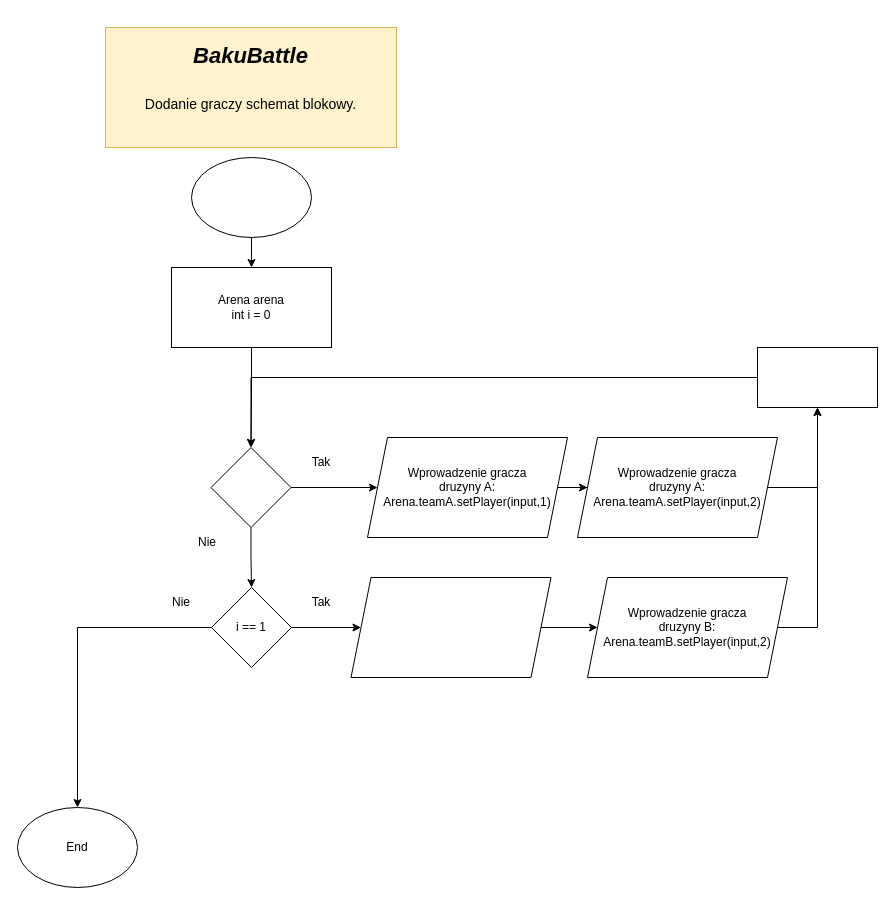
Some shapes in this 895 by 905 pixel diagram are drawn without their labels. Here are the shapes that lost their labels. From the top down, the centre of each, then its label:
the point at 251,197: Start
the point at 817,377: i++
the point at 250,487: i == 0
the point at 450,627: Wprowadzenie gracza druzyny B: Arena.teamB.setPlayer(input,1)
